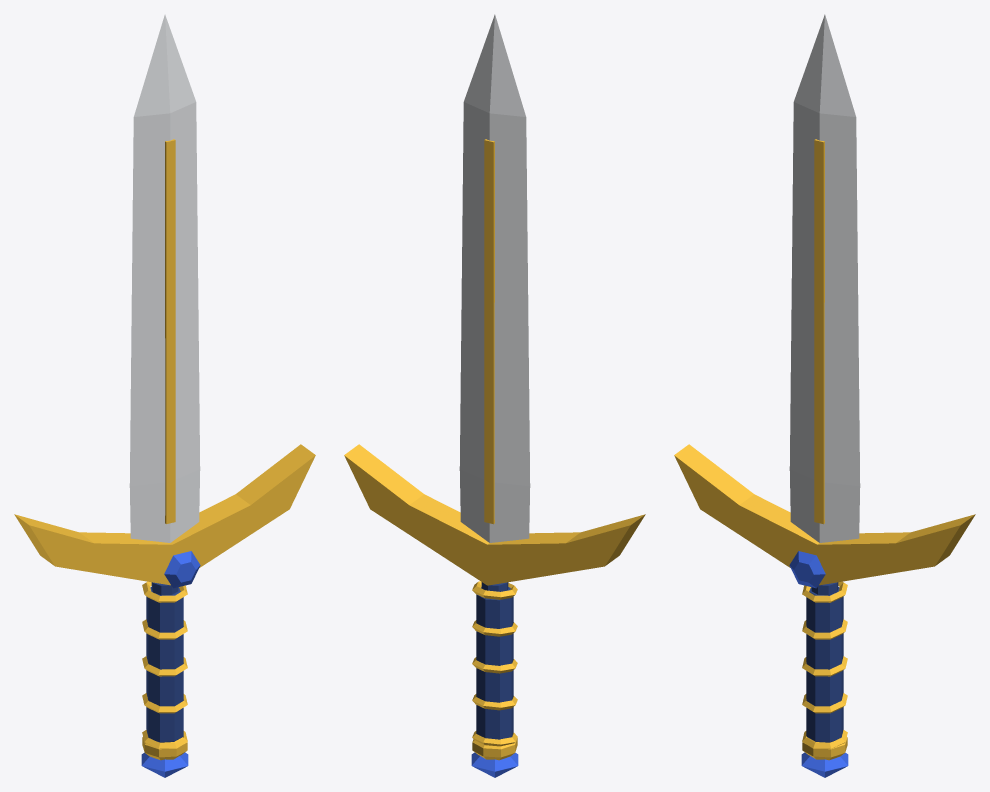
The model's file is Excalibur.fbx.
3 views of the same model, side by side, from view 1: azimuth 30°, elevation 25°; view 2: azimuth 150°, elevation 25°; view 3: azimuth 330°, elevation 25° (orthographic).
Parts seen in each view (by area): view 1: Excalibur; view 2: Excalibur; view 3: Excalibur.
Boxes of the visible parts, x1,y1,x2,y2 form: Excalibur: (14, 14, 315, 777); Excalibur: (344, 14, 645, 777); Excalibur: (674, 14, 975, 777).
Bounding box in the file's own units: 2.2 × 5.6 × 0.4365.
Materials: 1 (1 with a texture image).
